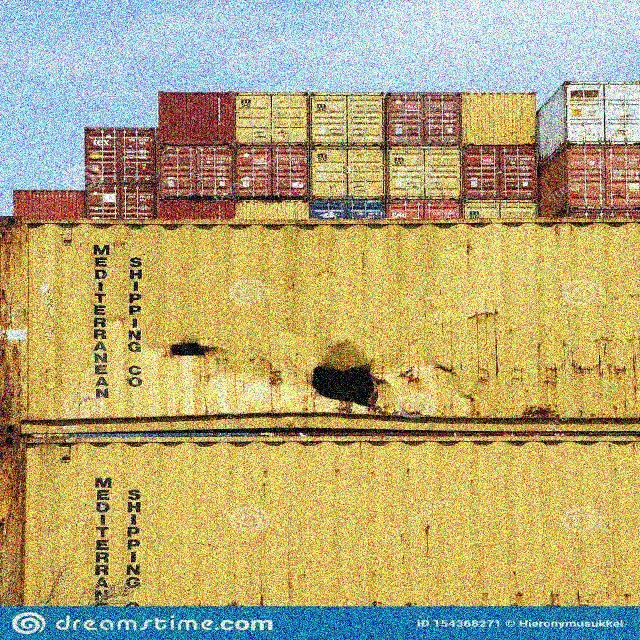Hole: (295, 337, 408, 423), (151, 319, 235, 377)
